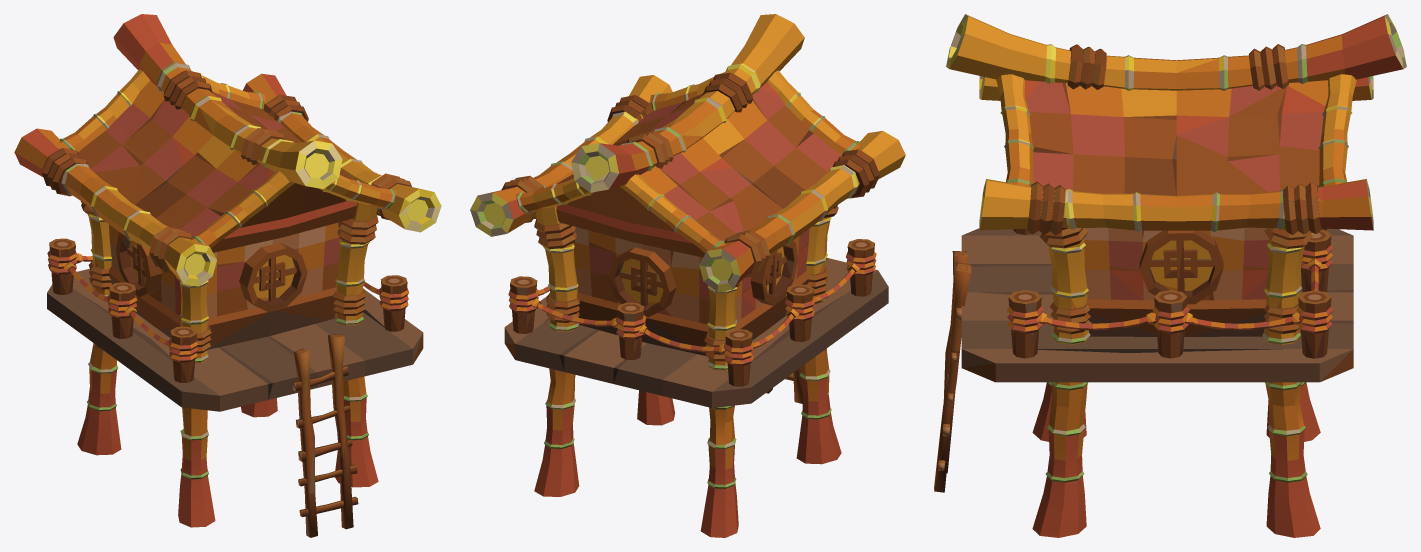
The model's file is itch_fishing_village_fishing_cabin.glb.
3 views of the same model, side by side, from view 1: azimuth 30°, elevation 25°; view 2: azimuth 150°, elevation 25°; view 3: azimuth 270°, elevation 25° (orthographic). The views are drawn at different scales.
Parts seen in each view (by area): view 1: fishing_cabin.001; view 2: fishing_cabin.001; view 3: fishing_cabin.001.
Part boxes in pixels (x1,y1,x2,y2): fishing_cabin.001: [14, 14, 441, 537]; fishing_cabin.001: [470, 14, 905, 537]; fishing_cabin.001: [934, 14, 1406, 537].
Bounding box in the file's own units: 0.7489 × 1.04 × 0.96.
